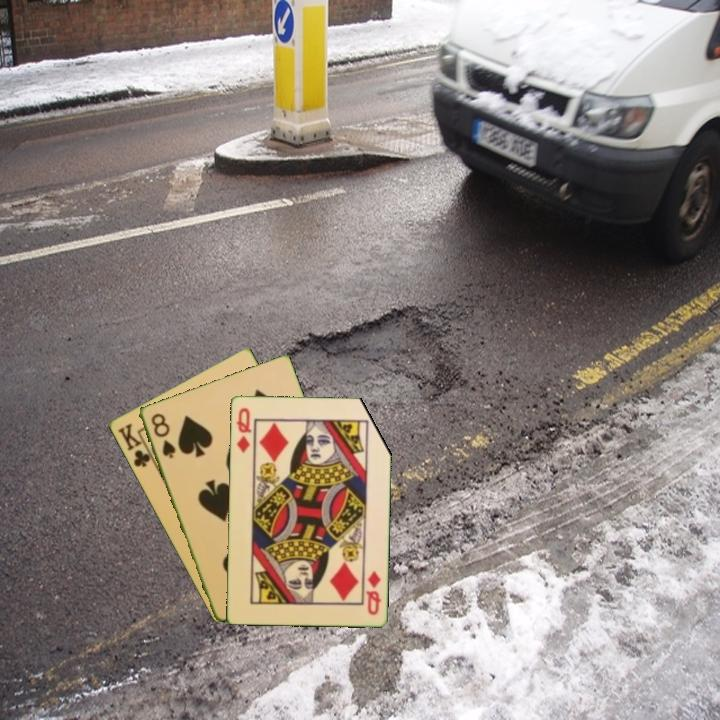8s: (147, 410, 178, 461)
Kc: (114, 419, 158, 470)
Qd: (233, 404, 254, 456), (362, 567, 383, 618)
